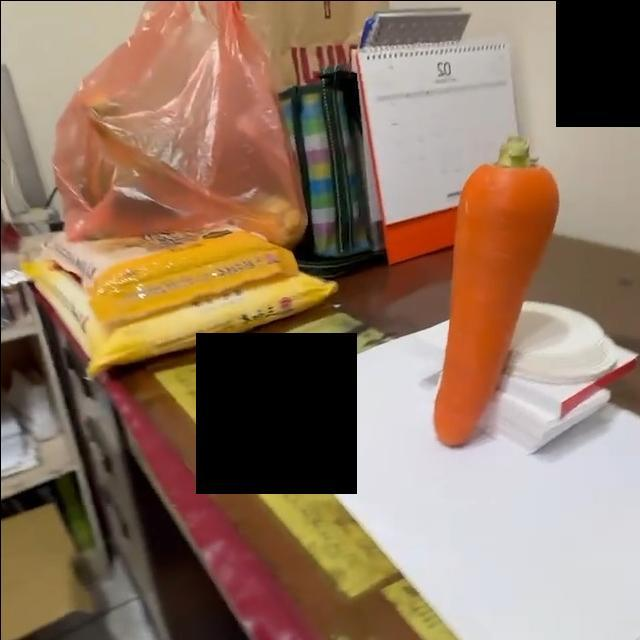carrot: (431, 139, 561, 448)
